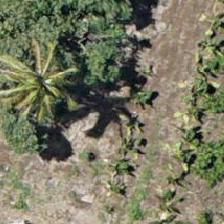coconut_tree: (1, 31, 91, 121)
